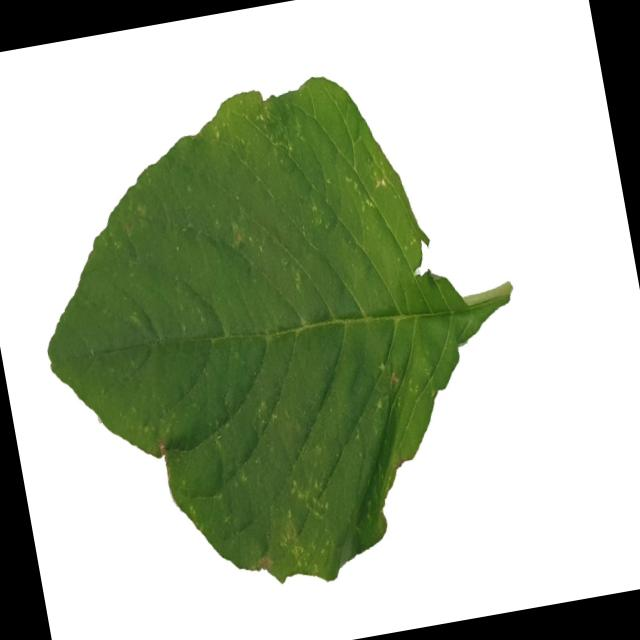Medicinal-Arive Dantu: (6, 34, 558, 614)
